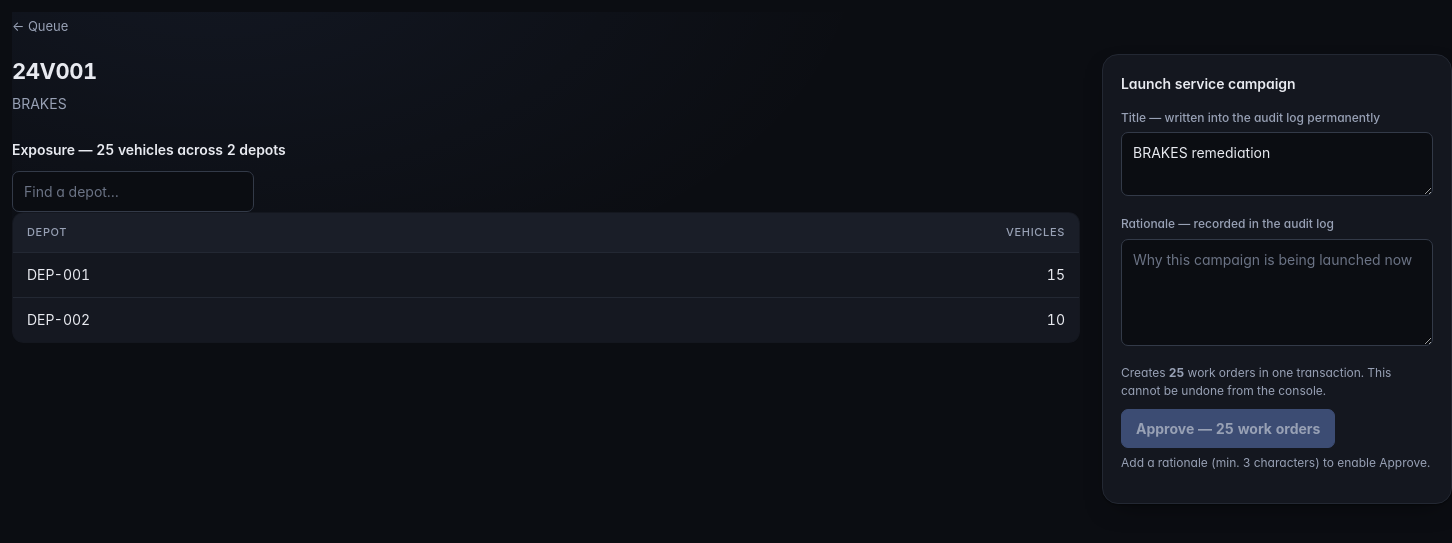
Campaign › shows the approval error inline and keeps the form usable on failure
Type "Because it must be done" into the text box labelled "Rationale — recorded in the audit log" at (1277, 292), box [1121,239,1433,346]
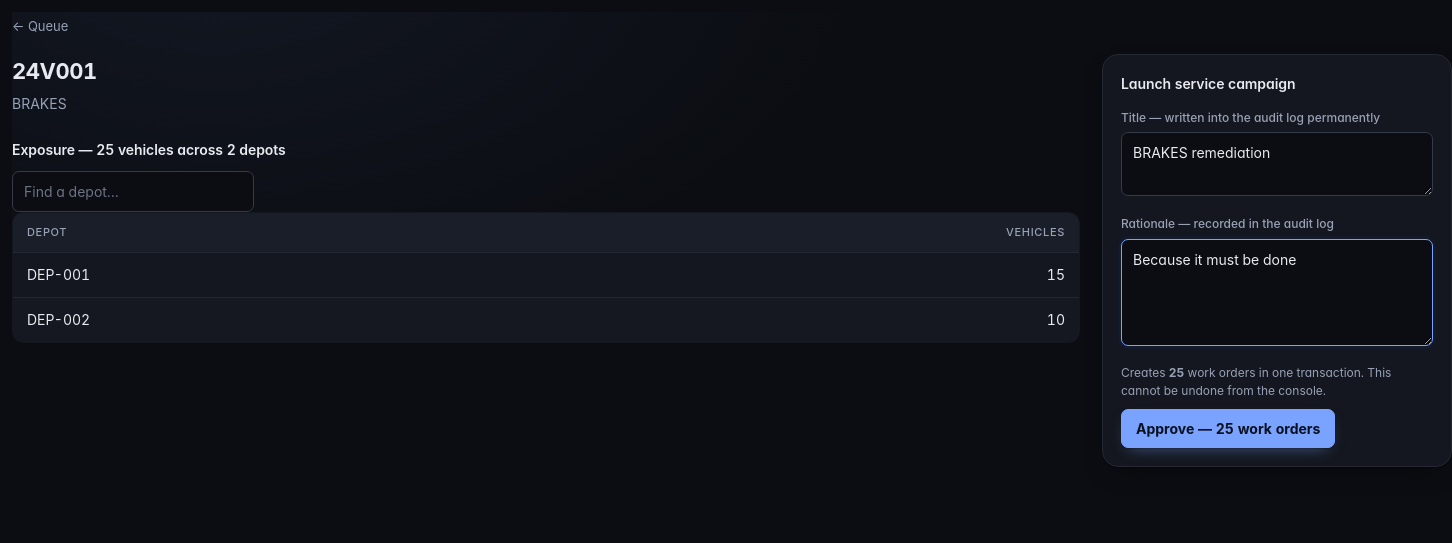
Click the button "Approve — 25 work orders" at (1228, 429), box [1121,409,1335,448]
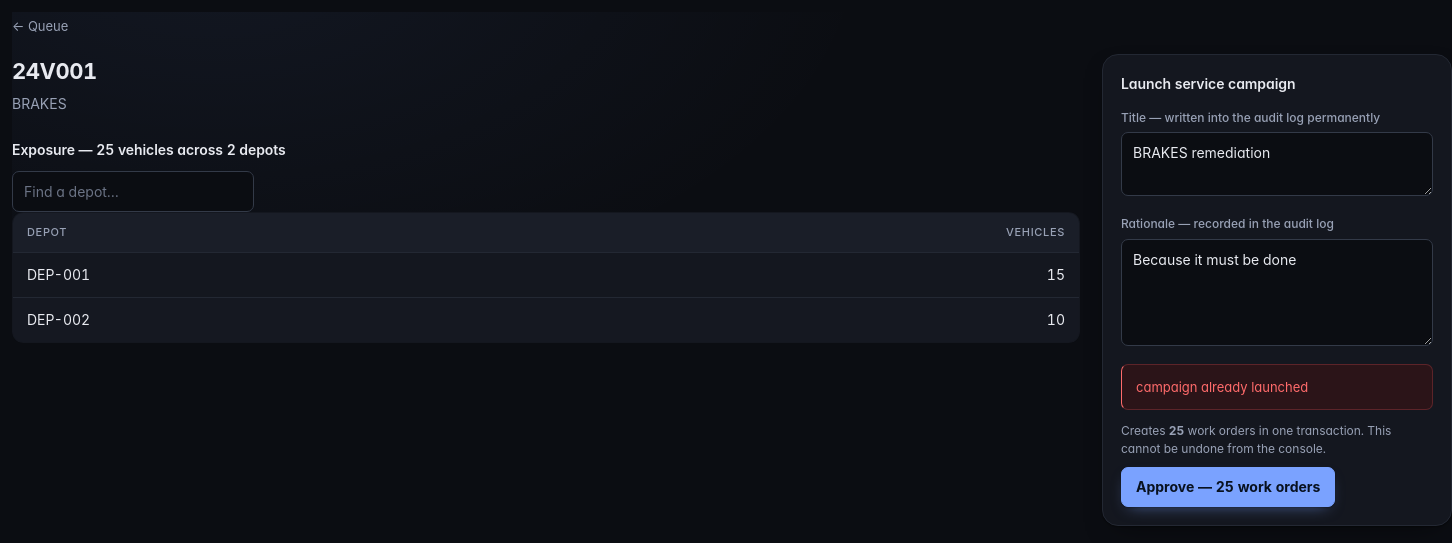
Expected: the button "Approve — 25 work orders" is shown, [1121,467,1335,506]
Expected: the text "campaign already launched" is shown, [1121,364,1433,410]
